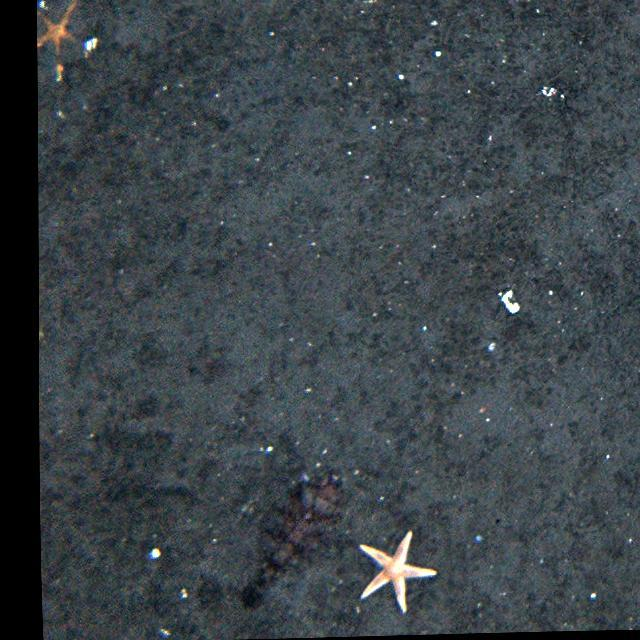flatfish: (238, 465, 349, 606)
